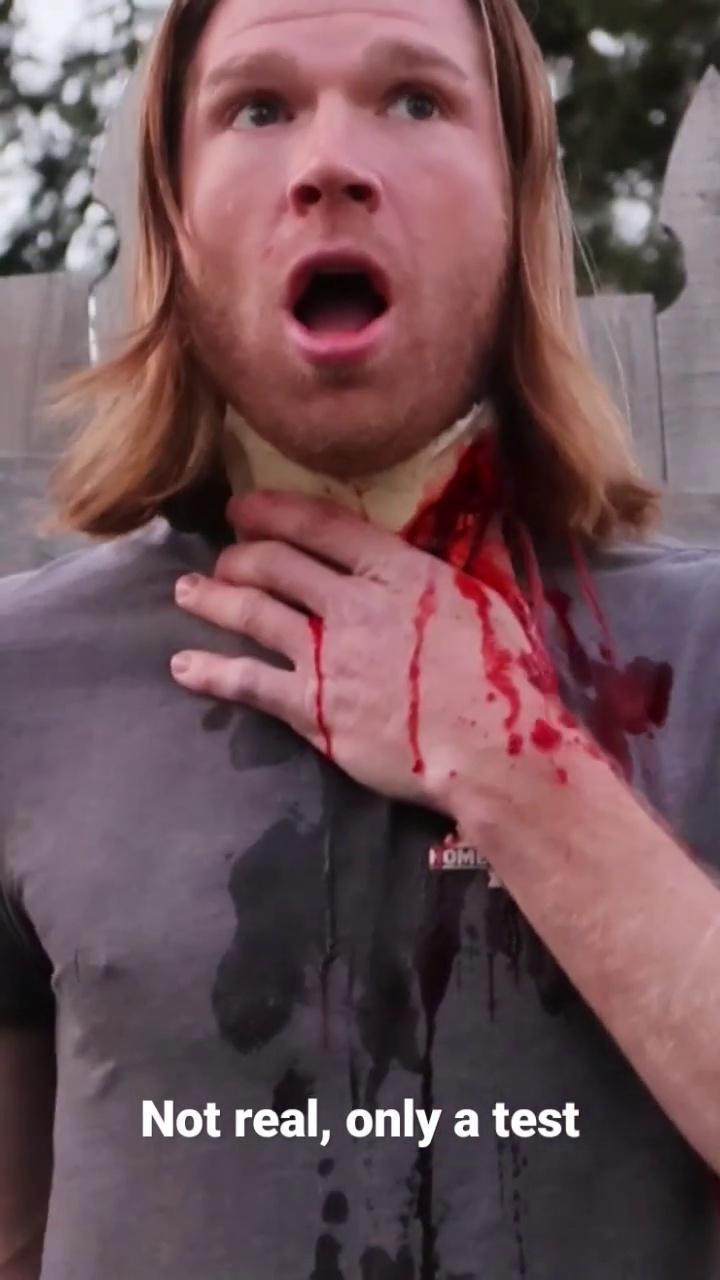Fire: (400, 429, 673, 780), (306, 549, 612, 840)
